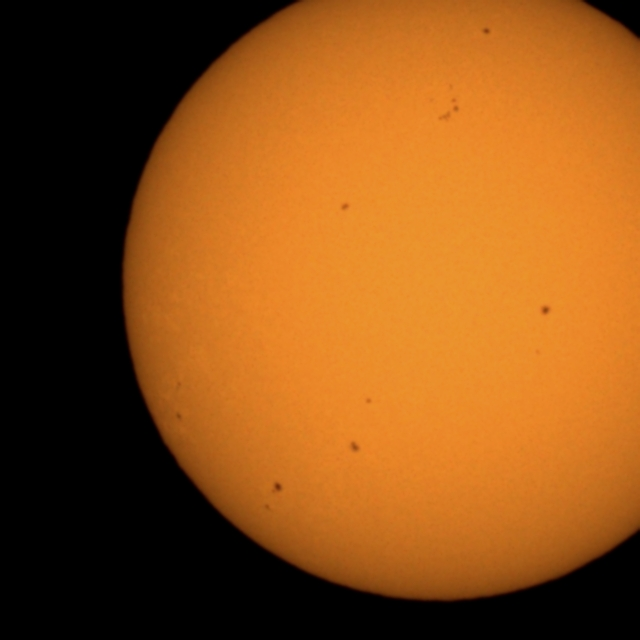sunspot: (431, 93, 461, 123), (263, 482, 284, 513), (446, 83, 459, 108), (348, 440, 361, 454), (539, 304, 552, 318), (271, 481, 283, 495), (339, 202, 351, 213), (481, 26, 492, 36), (364, 396, 373, 406), (175, 411, 183, 422), (175, 380, 182, 392), (263, 503, 272, 512), (534, 348, 542, 357)
